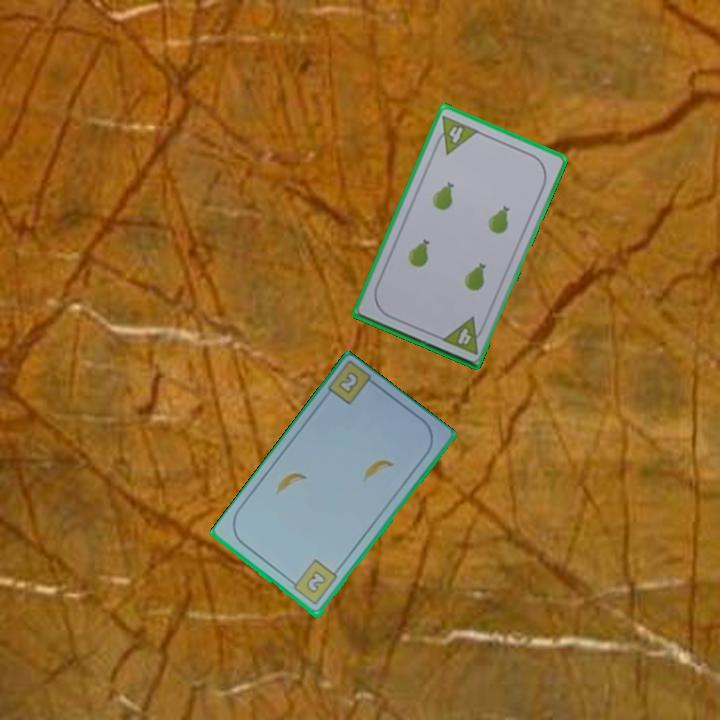2b: (286, 556, 340, 609), (334, 368, 362, 397)
4p: (430, 112, 482, 157), (438, 314, 488, 357)
